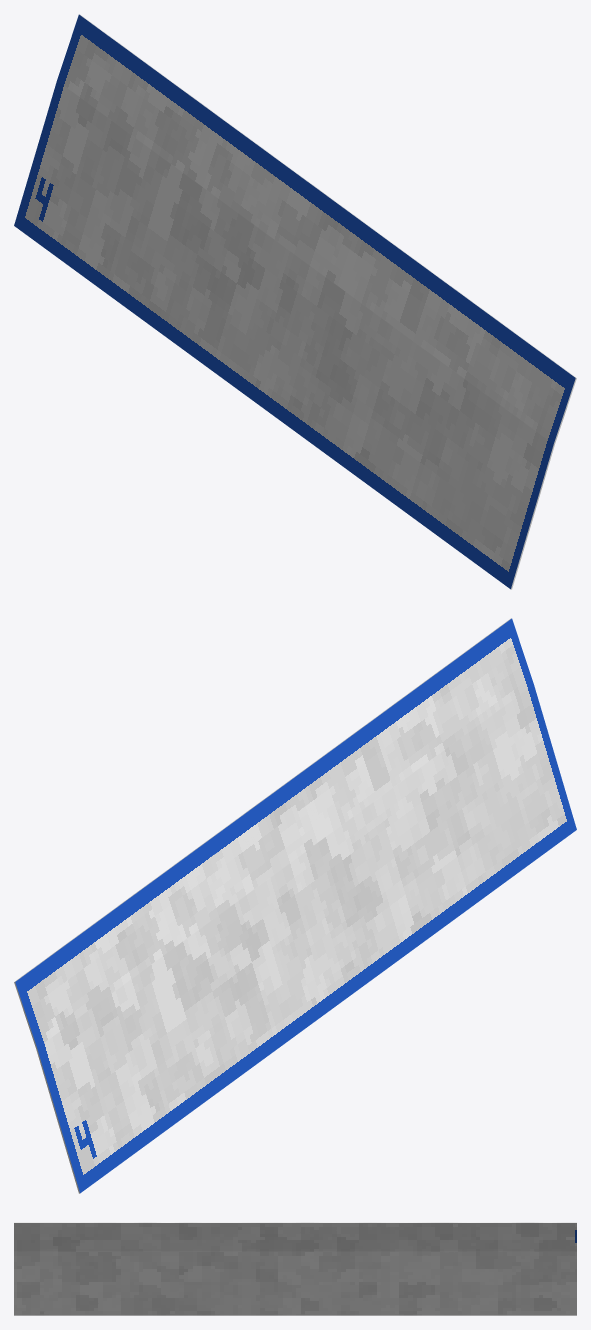
File: S4_Right.glb
3 views of the same model, one above another, from view 1: azimuth 30°, elevation 25°; view 2: azimuth 150°, elevation 25°; view 3: azimuth 270°, elevation 25° (orthographic). The views are drawn at different scales.
Visible parts, largest first — view 1: S4_Component_Panel_Starboard; view 2: S4_Component_Panel_Starboard; view 3: S4_Component_Panel_Starboard.
Boxes of the visible parts, x1,y1,x2,y2 form: S4_Component_Panel_Starboard: [14, 14, 576, 589]; S4_Component_Panel_Starboard: [14, 618, 576, 1193]; S4_Component_Panel_Starboard: [14, 1222, 576, 1315].
Bounding box in the file's own units: 1 × 2.84 × 13.06.
Materials: 1 (1 with a texture image).
